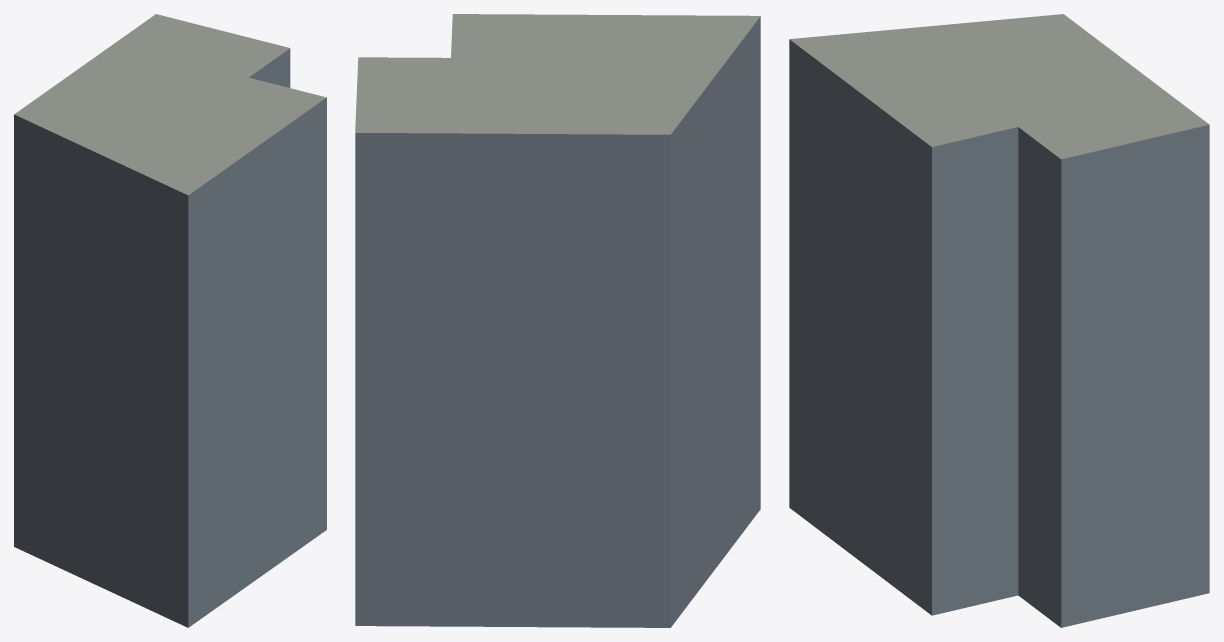
Rendered from nyc-1022573-0.glb.
The picture shows the model from 3 angles, left to right: view 1: azimuth 30°, elevation 25°; view 2: azimuth 150°, elevation 25°; view 3: azimuth 270°, elevation 25°; orthographic projection. The views are drawn at different scales.
Visible parts, largest first — view 1: nyc-1022573-0; view 2: nyc-1022573-0; view 3: nyc-1022573-0.
Part boxes in pixels (box(x1,y1,x2,y2)): nyc-1022573-0: box(14, 14, 326, 627); nyc-1022573-0: box(355, 14, 760, 627); nyc-1022573-0: box(789, 14, 1209, 627).
Size of the model in its own units: 38.17 by 57.34 by 46.62.
